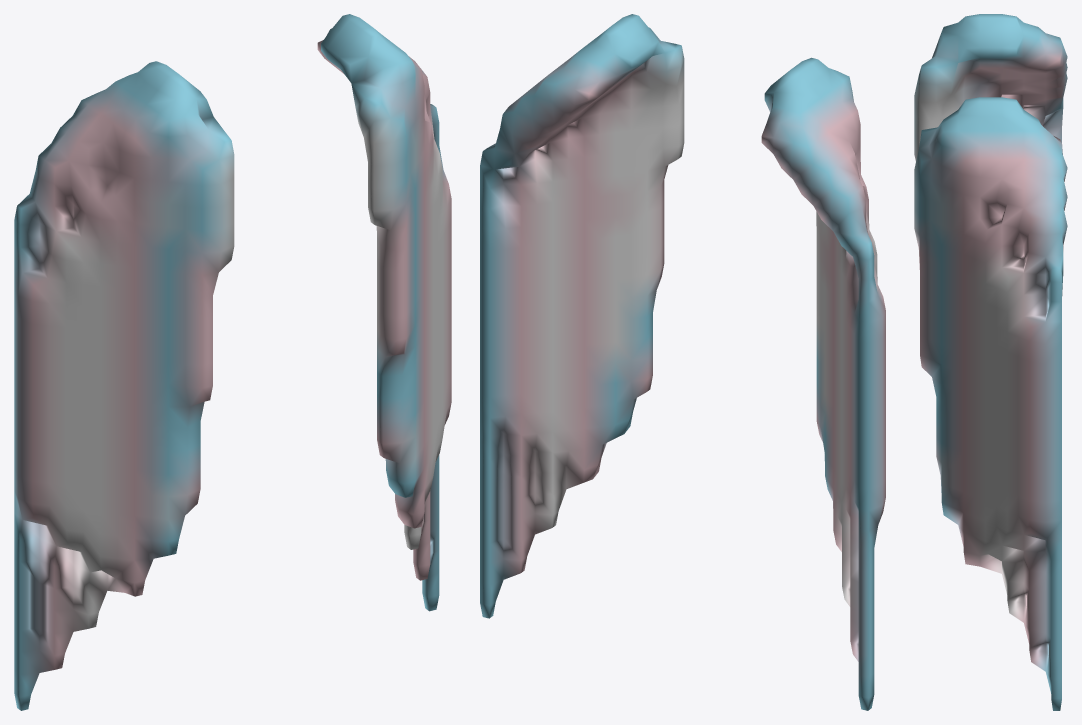
The picture shows the model from 3 angles, left to right: view 1: azimuth 30°, elevation 25°; view 2: azimuth 150°, elevation 25°; view 3: azimuth 270°, elevation 25°; orthographic projection. The views are drawn at different scales.
Bounding box in the file's own units: 1 × 1.42 × 0.35.
